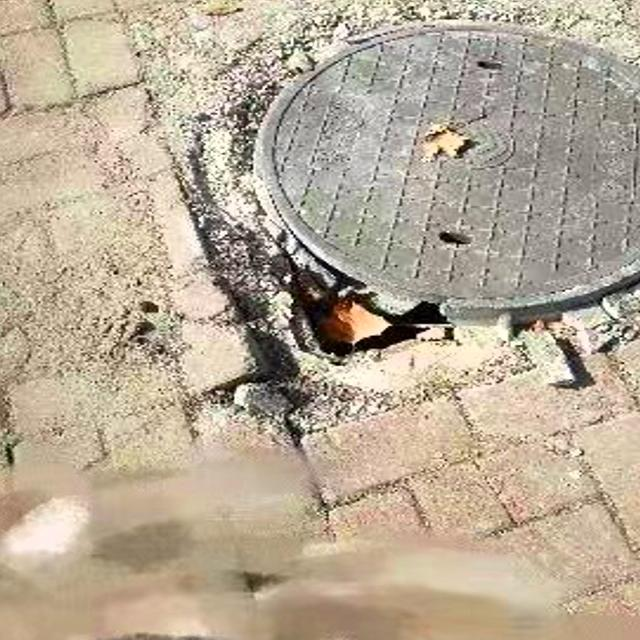circle: (175, 0, 640, 350)
